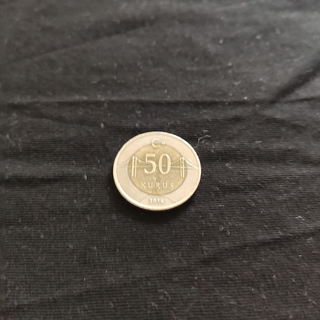50KURUS: (111, 129, 203, 213)
